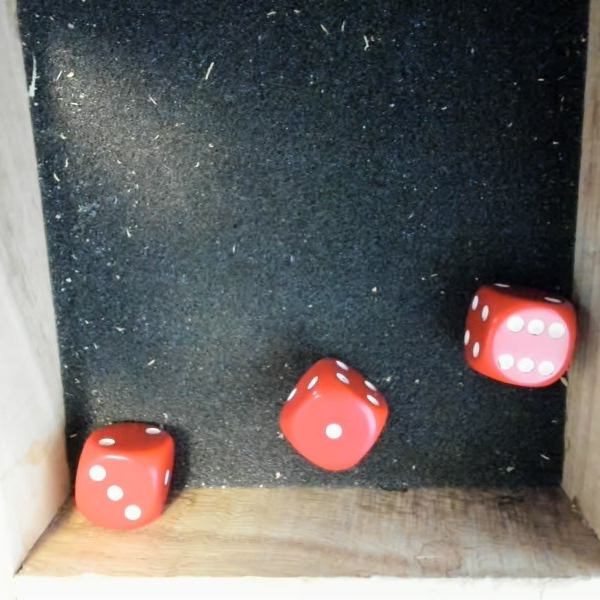red_die_pip1: (262, 342, 407, 486)
red_die_pip3: (77, 418, 170, 532)
red_die_pip6: (453, 267, 584, 397)
